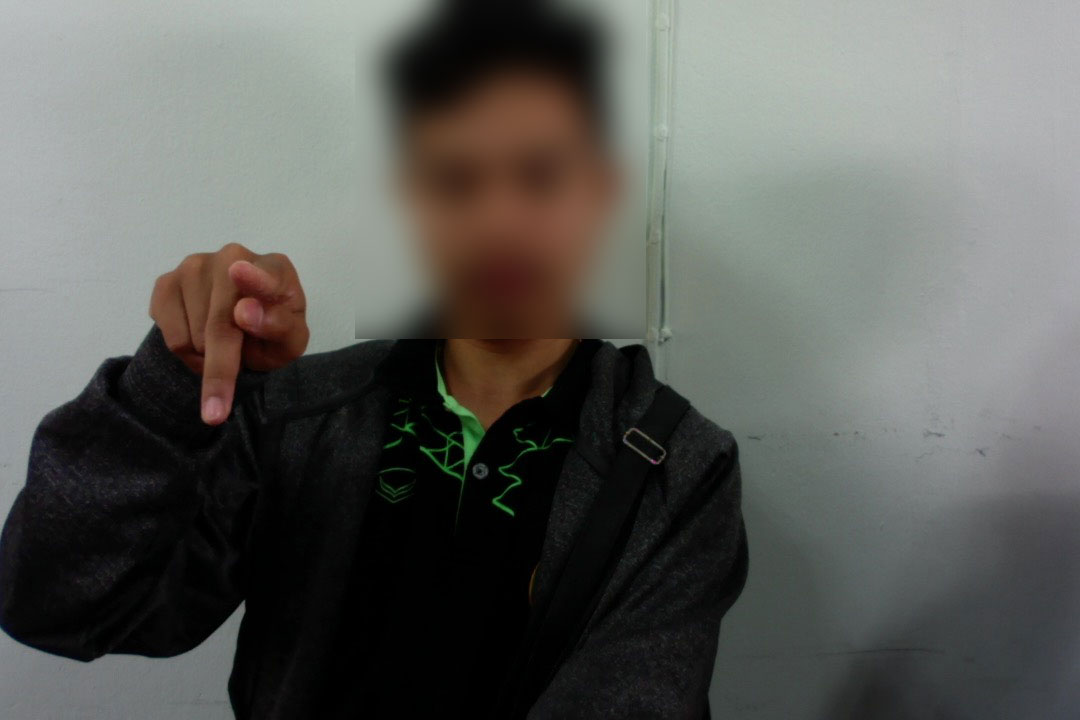por: (140, 240, 325, 437)
